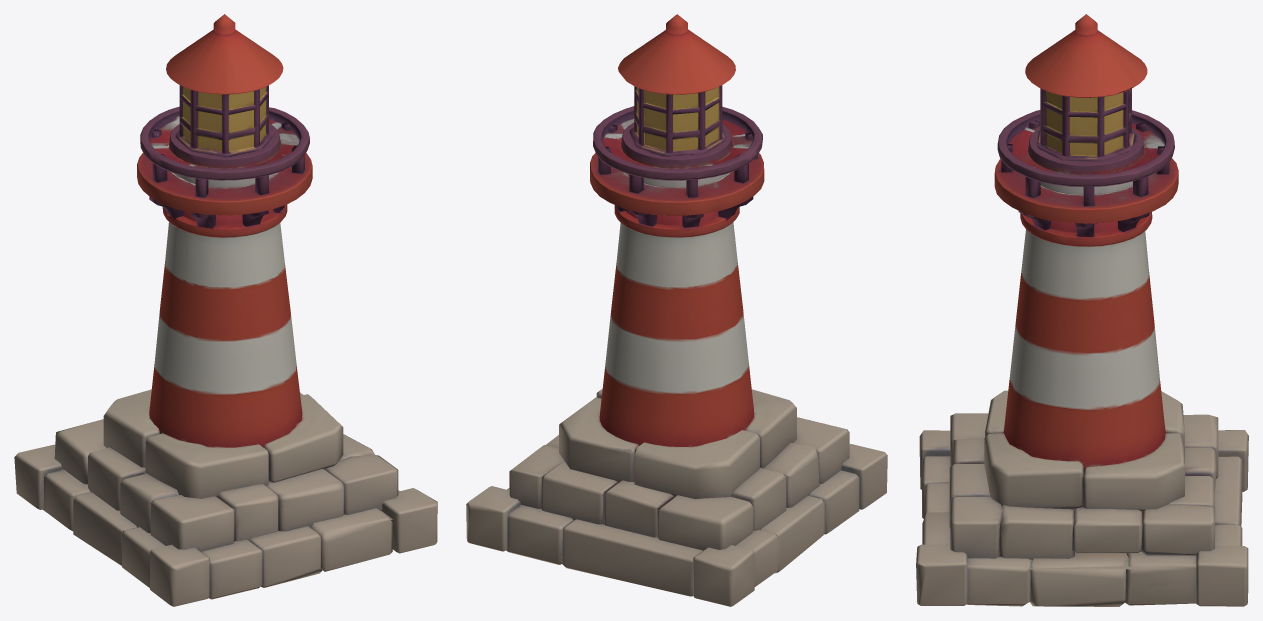
The model's file is raw.glb.
3 renders of one model, left to right at view 1: azimuth 30°, elevation 25°; view 2: azimuth 150°, elevation 25°; view 3: azimuth 270°, elevation 25°, orthographic. The views are drawn at different scales.
Visible parts, largest first — view 1: tripo_node_39764e95-3312-4c12-a49d-d29f856ad957; view 2: tripo_node_39764e95-3312-4c12-a49d-d29f856ad957; view 3: tripo_node_39764e95-3312-4c12-a49d-d29f856ad957.
Boxes of the visible parts, left/top/right/bottom form: tripo_node_39764e95-3312-4c12-a49d-d29f856ad957: left=14, top=14, right=437, bottom=606; tripo_node_39764e95-3312-4c12-a49d-d29f856ad957: left=466, top=14, right=887, bottom=606; tripo_node_39764e95-3312-4c12-a49d-d29f856ad957: left=916, top=14, right=1248, bottom=606.
Bounding box in the file's own units: 0.5562 × 0.9995 × 0.5669.
Materials: 1 (1 with a texture image).
